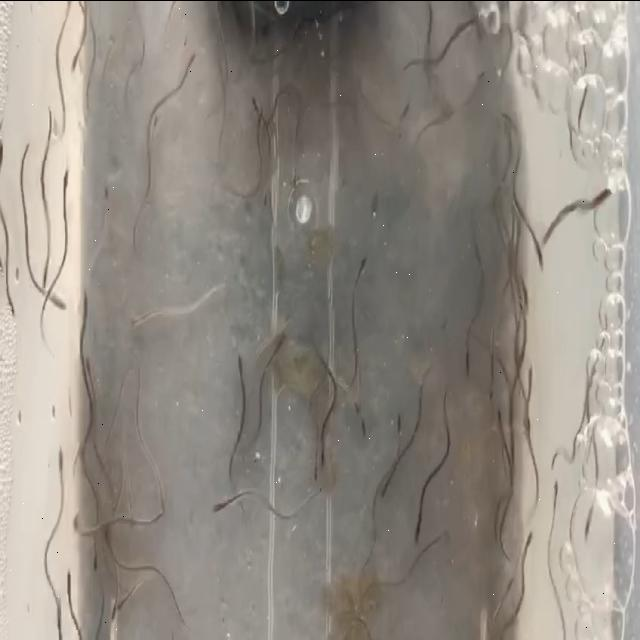active_glass_eel: (603, 170, 627, 206), (56, 440, 70, 486), (210, 486, 228, 520), (4, 290, 18, 326), (49, 291, 67, 317), (274, 323, 288, 355), (353, 410, 369, 436), (260, 180, 272, 214), (521, 285, 533, 317), (534, 242, 546, 274), (286, 159, 298, 191), (51, 120, 67, 143), (68, 48, 82, 74), (38, 258, 48, 294), (158, 490, 170, 520), (549, 477, 561, 506), (64, 569, 78, 593), (356, 252, 368, 280), (318, 439, 328, 472), (486, 371, 496, 404), (580, 521, 593, 546), (520, 530, 532, 556), (102, 521, 112, 552), (116, 592, 130, 614), (59, 168, 70, 196), (70, 506, 80, 536), (255, 104, 265, 134), (412, 517, 422, 547), (127, 312, 141, 333), (80, 286, 88, 322), (522, 411, 534, 435), (108, 594, 118, 622), (464, 346, 474, 374), (312, 453, 320, 487), (473, 66, 488, 84), (101, 176, 113, 198), (105, 28, 116, 52), (398, 100, 409, 124), (379, 479, 392, 499), (526, 362, 536, 388), (394, 412, 406, 433), (90, 544, 100, 568), (235, 353, 245, 377), (250, 95, 260, 118), (188, 51, 198, 73), (127, 509, 137, 529), (83, 103, 91, 127), (109, 502, 119, 520), (84, 352, 92, 374), (495, 408, 504, 426), (504, 576, 514, 592)
